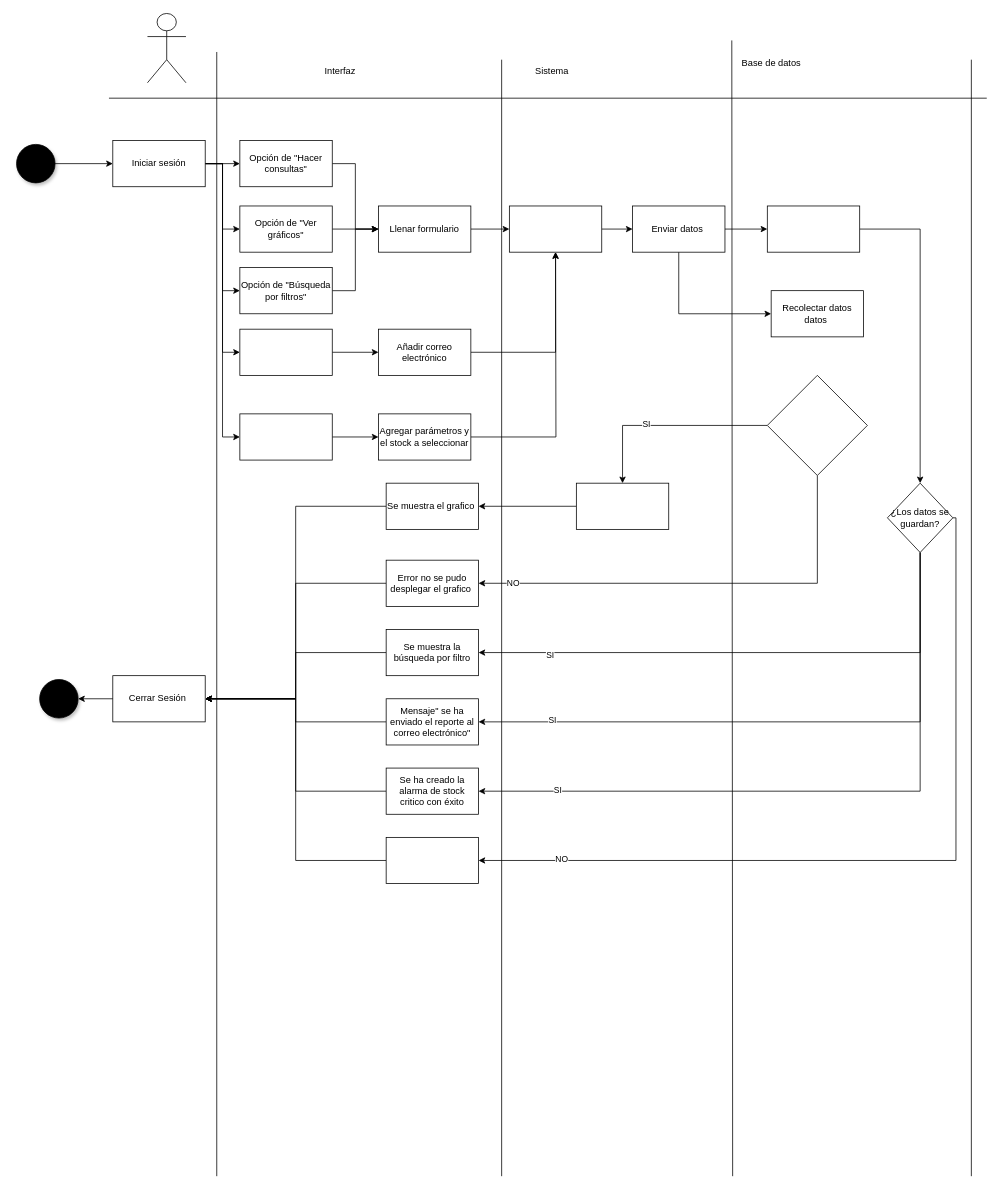
Some shapes in this 1001 by 1190 pixel diagram are drawn without their labels. The centre of each missing label's shape, as x and y in pixels:
Error: [432,860]
Generar el grafico solicitado: [622,505]
Guardar datos: [813,228]
Opción de "Crear alarma para niveles de stock": [285,436]
Opción de "Reportes que lleguen al correo electrónico": [285,351]
Se valida que los campos sean llenados correctamente: [555,228]
Usuario: [166,48]
¿Los datos se envían correctamente?: [817,425]
